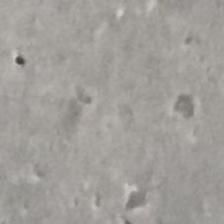Non_Crack: (32, 12, 224, 200)
